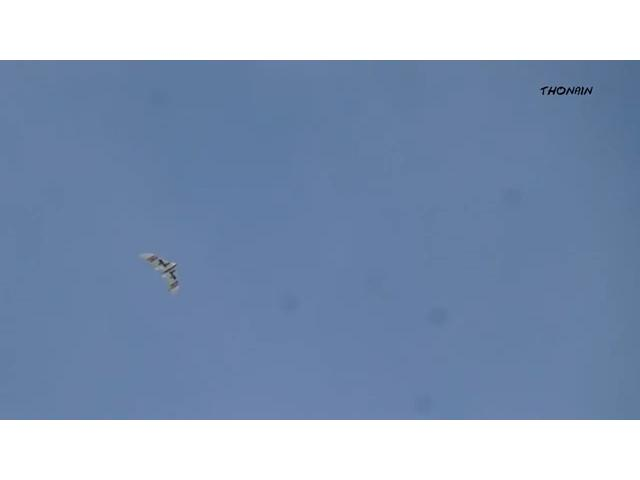Anti-Drone: (139, 253, 181, 296)
